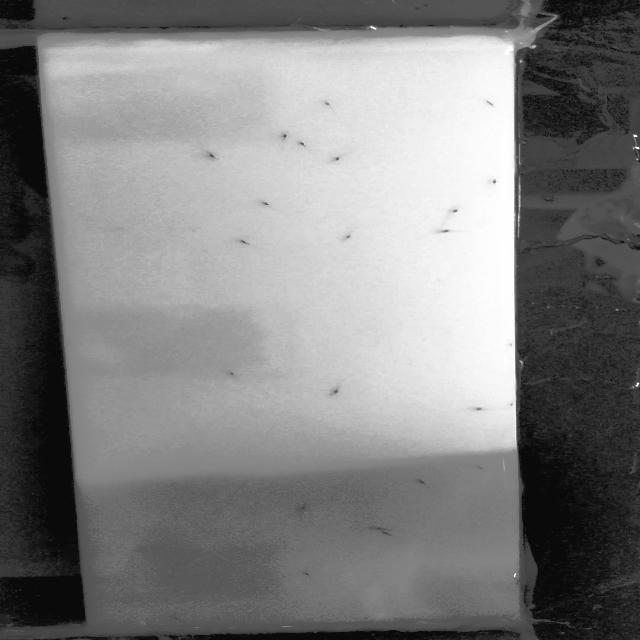shrimp: (322, 385, 349, 395), (407, 476, 433, 486), (336, 230, 359, 240), (222, 364, 239, 377), (296, 501, 318, 511), (276, 128, 293, 140), (374, 531, 399, 539), (294, 571, 319, 579), (447, 205, 465, 216), (474, 464, 492, 474), (206, 154, 231, 161), (292, 138, 312, 146), (240, 237, 266, 243), (318, 102, 342, 108), (483, 98, 501, 106), (369, 523, 385, 532), (332, 152, 346, 162), (471, 404, 485, 413), (262, 202, 278, 209), (486, 177, 498, 184), (437, 228, 457, 230)
